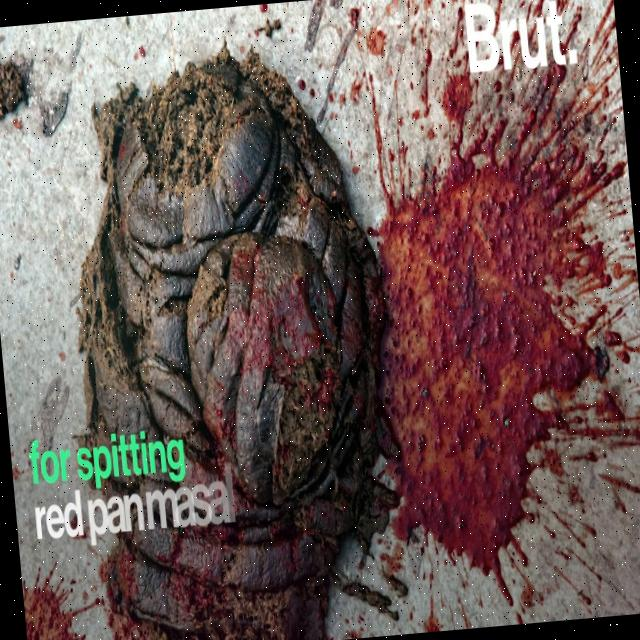spit: (357, 141, 638, 583)
